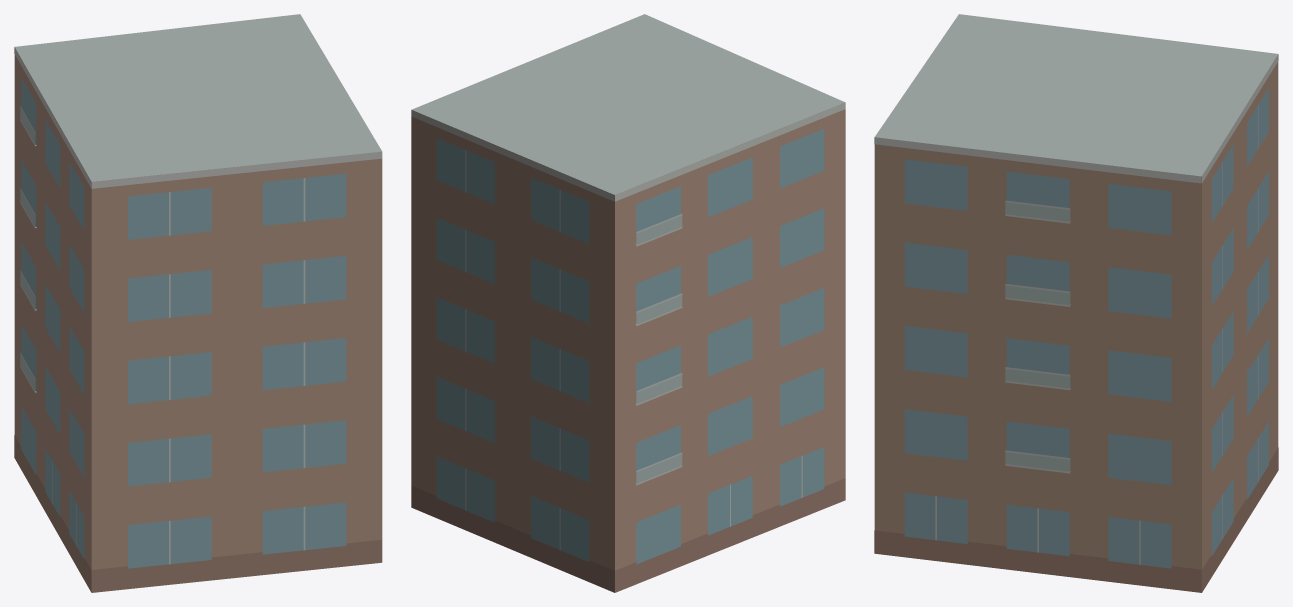
The model's file is survey-upis-32899732.glb.
The picture shows the model from 3 angles, left to right: view 1: azimuth 30°, elevation 25°; view 2: azimuth 150°, elevation 25°; view 3: azimuth 270°, elevation 25°; orthographic projection. The views are drawn at different scales.
Visible parts, largest first — view 1: survey-upis-32899732.tmp; view 2: survey-upis-32899732.tmp; view 3: survey-upis-32899732.tmp.
Boxes of the visible parts, <box> form: survey-upis-32899732.tmp: <box>14,14,382,592</box>; survey-upis-32899732.tmp: <box>411,14,845,592</box>; survey-upis-32899732.tmp: <box>874,14,1278,592</box>.
Size of the model in its own units: 12.1 by 14.45 by 12.72.
